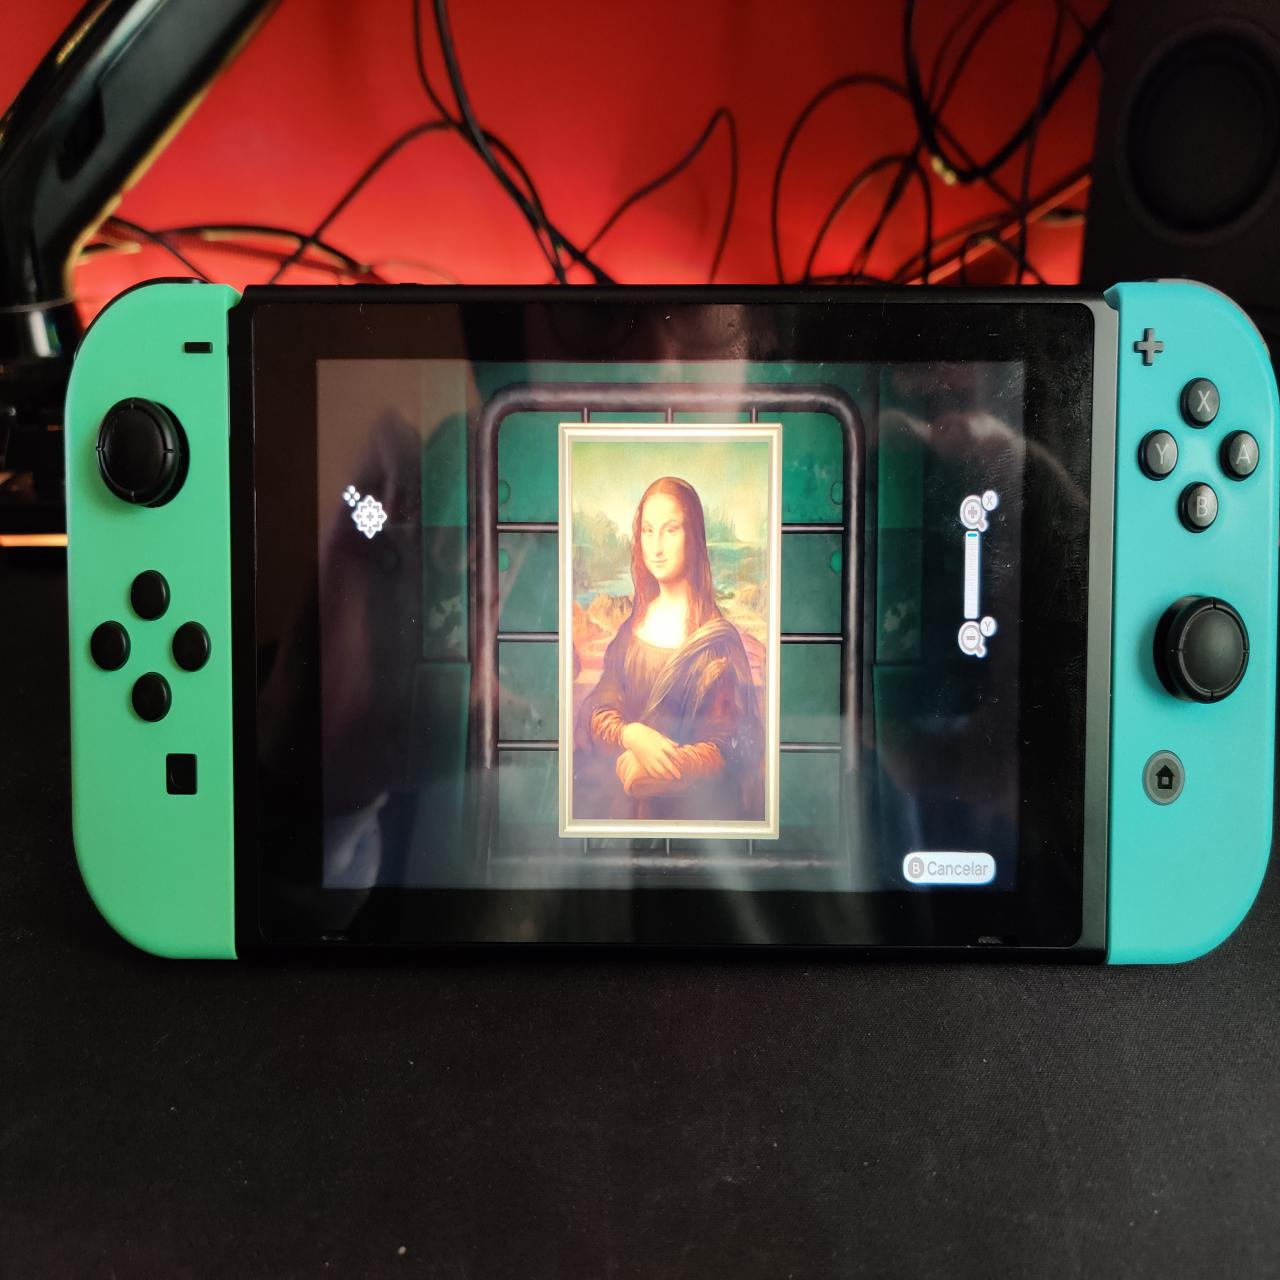MonaLisaFake: (574, 441, 767, 822)
